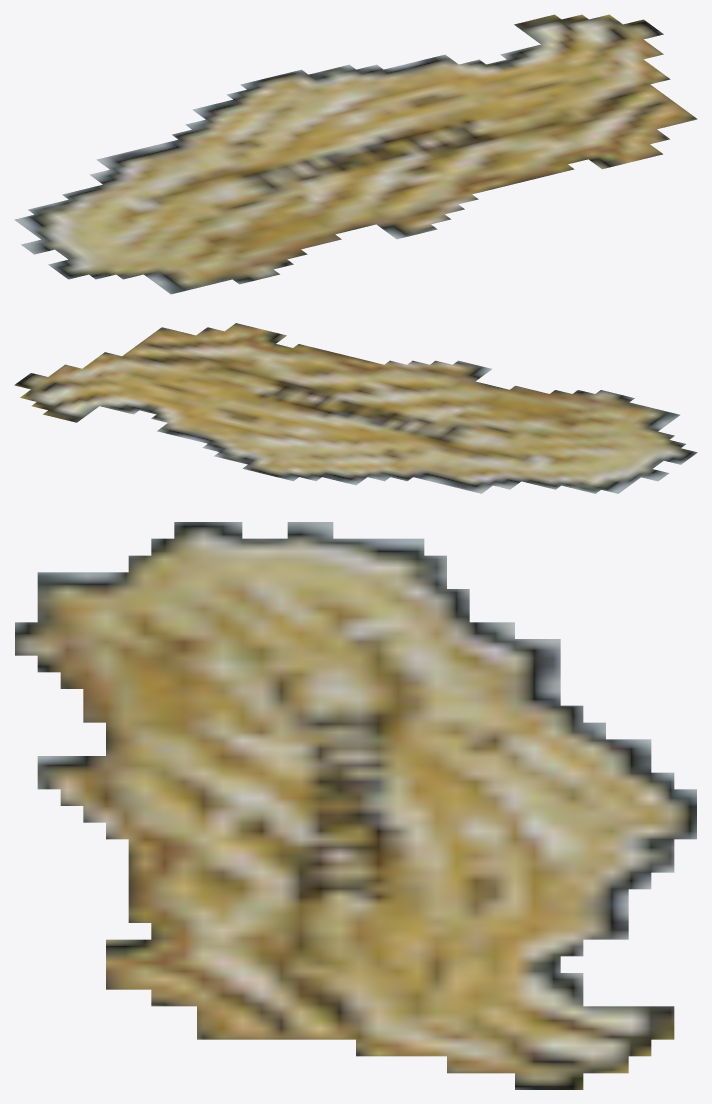
Rendered from turkey.gltf.
3 renders of one model, top to bottom at view 1: azimuth 30°, elevation 25°; view 2: azimuth 150°, elevation 25°; view 3: azimuth 270°, elevation 25°, orthographic. The views are drawn at different scales.
Visible parts, largest first — view 1: Plane; view 2: Plane; view 3: Plane.
Boxes of the visible parts, x1,y1,x2,y2 form: Plane: (14, 14, 697, 294); Plane: (14, 323, 697, 493); Plane: (15, 522, 696, 1089).
Size of the model in its own units: 0.3357 by 0 by 0.1704.
Materials: 1 (1 with a texture image).
